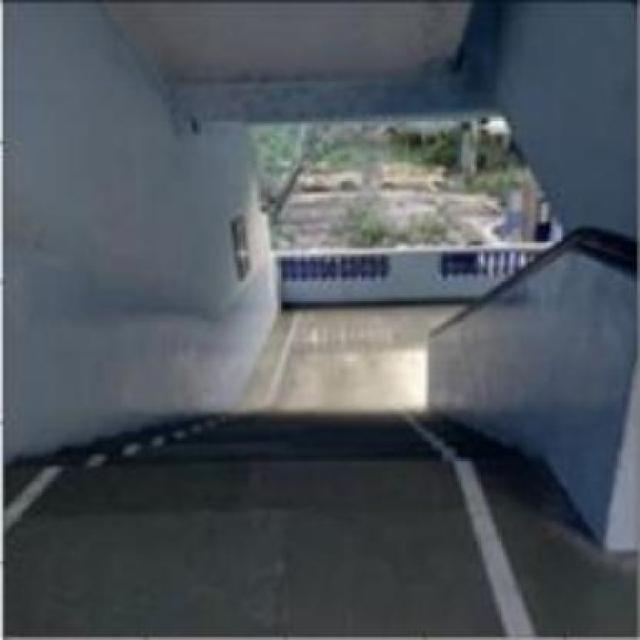stair: (11, 383, 554, 505)
